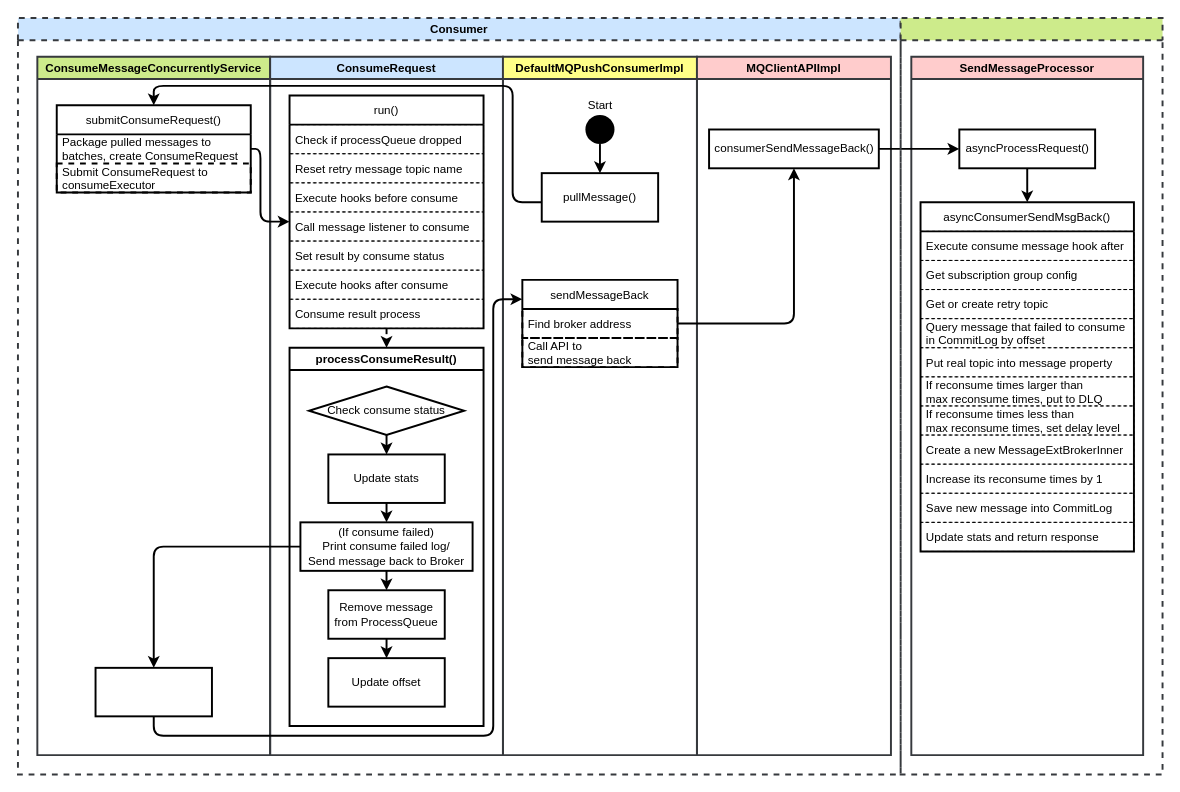
This 1180x792 diagram has some shape labels left out. Each missing label, with the centre of its shape:
Broker: the point at 1031,395
sendMessageBack(): the point at 153,691
